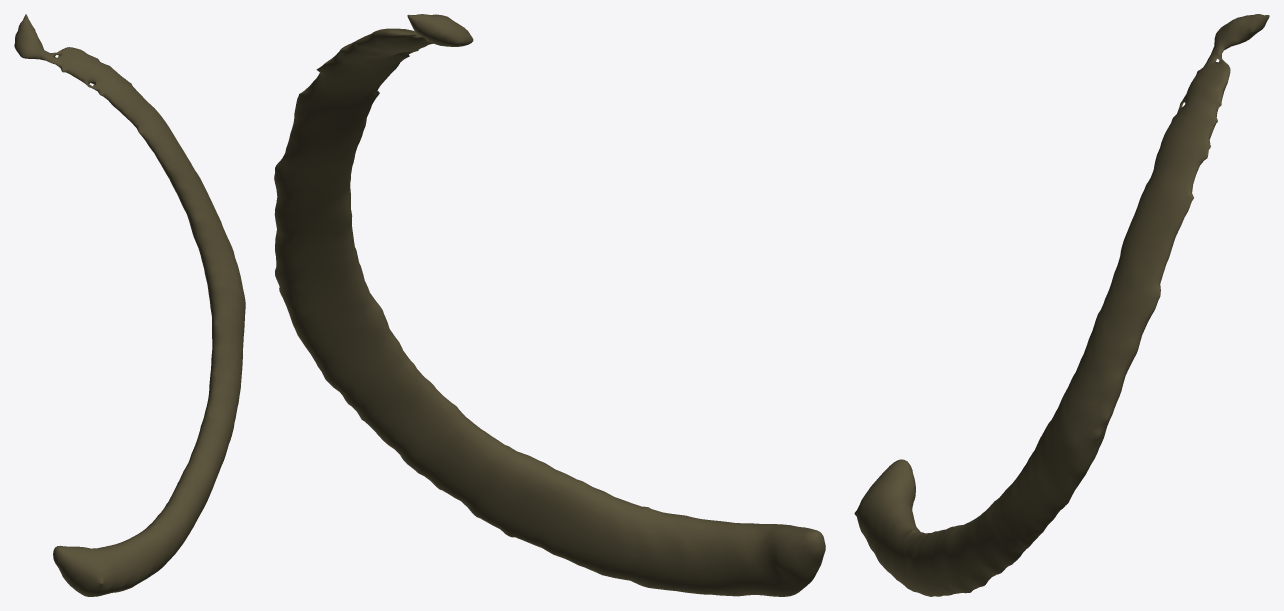
Rendered from segmentations_rib_right_2.obj.
3 renders of one model, left to right at view 1: azimuth 30°, elevation 25°; view 2: azimuth 150°, elevation 25°; view 3: azimuth 270°, elevation 25°, orthographic. The views are drawn at different scales.
Parts seen in each view (by area): view 1: grp1; view 2: grp1; view 3: grp1.
Part boxes in pixels (x1,y1,x2,y2): grp1: [14, 14, 245, 596]; grp1: [274, 14, 825, 596]; grp1: [854, 14, 1269, 596].
Size of the model in its own units: 46.35 by 77.05 by 49.58.
